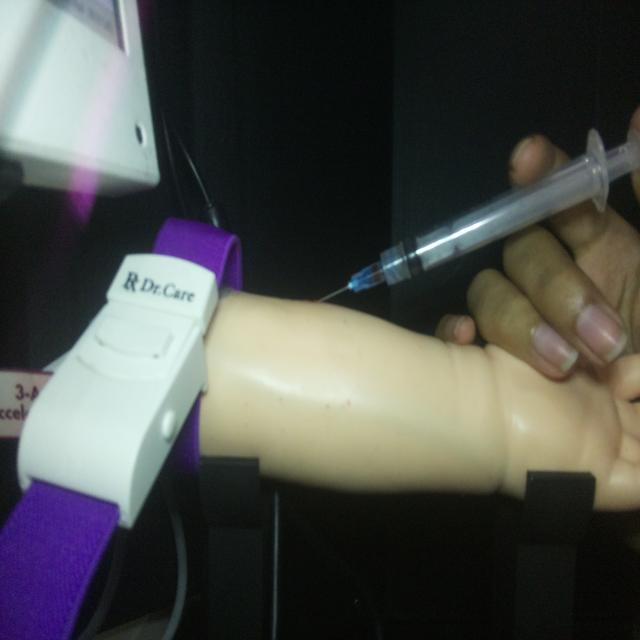17 degrees: (314, 125, 638, 305)
